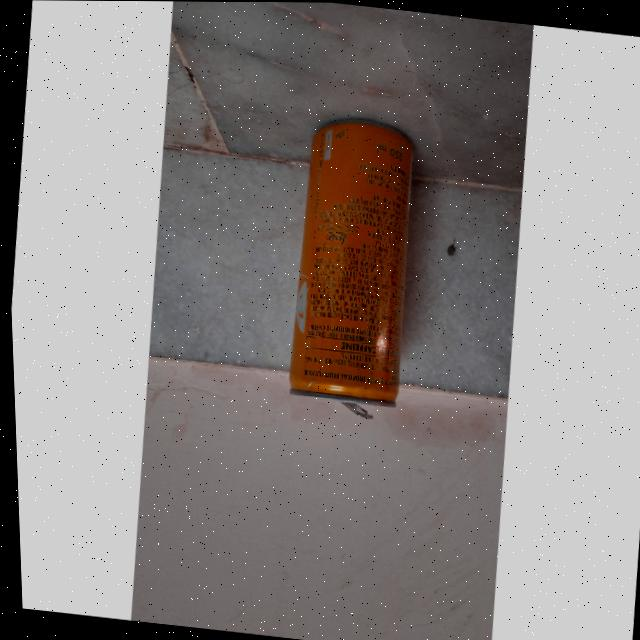Redbull Yellow Edition: (266, 107, 446, 431)
